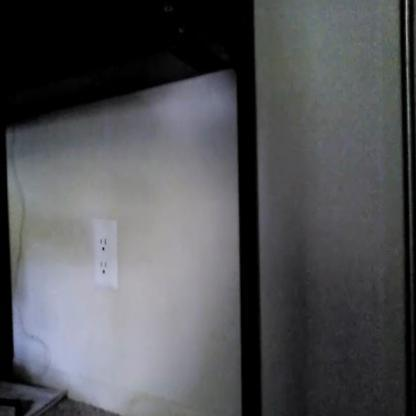OUTLET: (90, 219, 118, 288)
